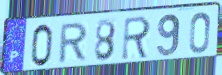0: (30, 23, 54, 69), (188, 10, 212, 55)
8: (93, 18, 116, 63)
9: (155, 13, 181, 58)
R: (120, 15, 153, 62), (56, 21, 90, 66)
